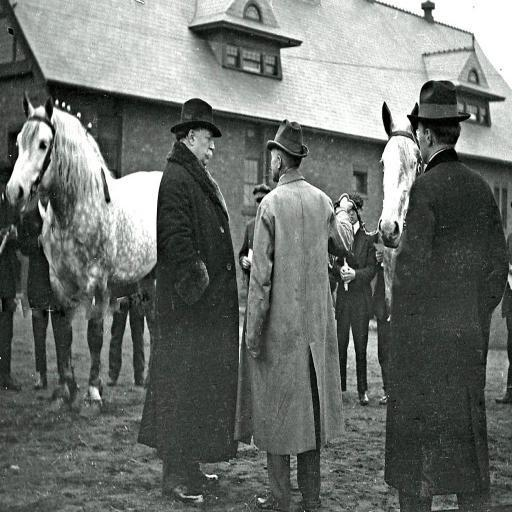horse: (8, 93, 162, 418), (375, 98, 424, 318)
